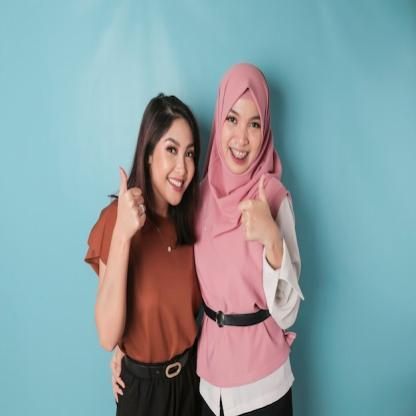thumb_up: (235, 171, 276, 246), (113, 164, 148, 238)
